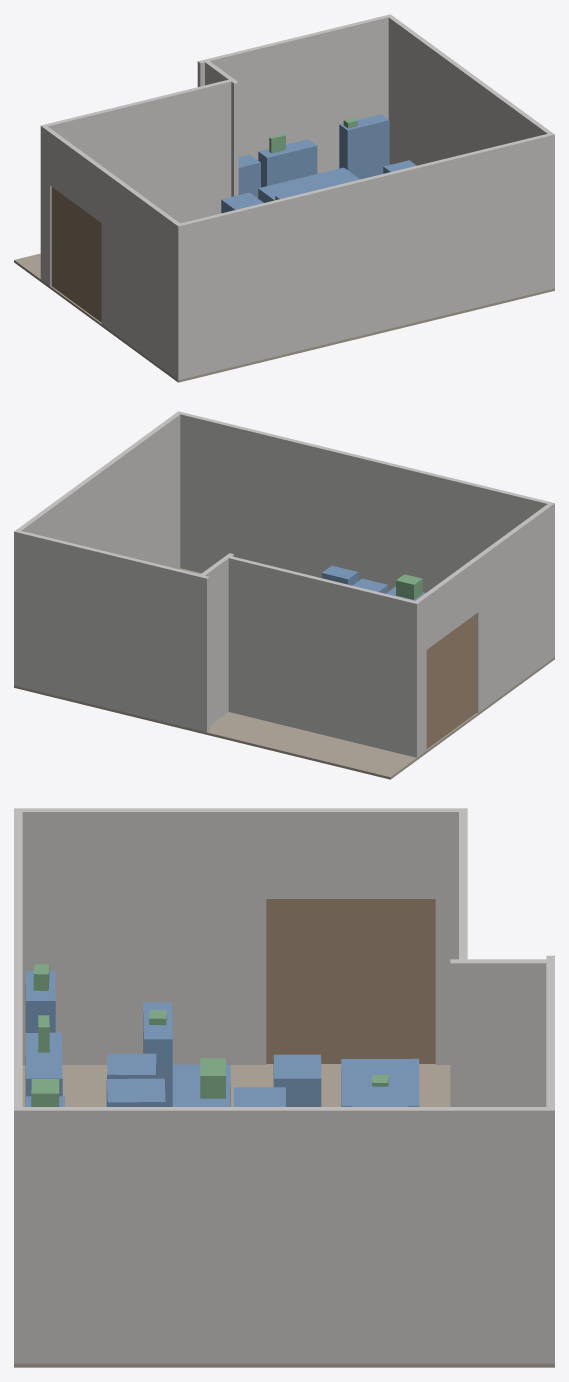
File: room_108.glb
3 renders of one model, top to bottom at view 1: azimuth 30°, elevation 25°; view 2: azimuth 150°, elevation 25°; view 3: azimuth 270°, elevation 25°, orthographic. The views are drawn at different scales.
Visible parts, largest first — view 1: shell_wall_0_s0, shell_wall_2_s0, shell_wall_4_s0, shell_wall_1_s0, shell_wall_5_s2, shell_wall_5_door, shell_wall_5_s1, obj_009, shell_floor, obj_029, shell_wall_5_s0, obj_011 (+3 smaller); view 2: shell_wall_0_s0, shell_wall_2_s0, shell_wall_4_s0, shell_wall_1_s0, shell_wall_5_s2, shell_floor, shell_wall_5_door, shell_wall_3_s0, shell_wall_5_s1, shell_wall_5_s0, obj_026, obj_016; view 3: shell_wall_1_s0, shell_wall_5_s2, shell_wall_5_door, shell_wall_5_s1, shell_wall_3_s0, shell_floor, shell_wall_5_s0, shell_wall_0_s0, obj_042, shell_wall_2_s0, obj_034, shell_wall_4_s0 (+9 smaller).
Boxes of the visible parts, x1,y1,x2,y2 form: shell_wall_0_s0: (175,134,554,380); shell_wall_2_s0: (197,14,392,173); shell_wall_4_s0: (40,78,235,280); shell_wall_1_s0: (386,14,554,289); shell_wall_5_s2: (101,169,182,379); shell_wall_5_door: (51,187,101,322); shell_wall_5_s1: (50,131,105,222); obj_009: (339,114,389,179); shell_floor: (14,253,554,382); obj_029: (258,139,317,187); shell_wall_5_s0: (40,125,54,286); obj_011: (258,167,359,202); shell_wall_0_s0: (176,411,554,656); shell_wall_2_s0: (14,531,209,732); shell_wall_4_s0: (225,555,419,757); shell_wall_1_s0: (14,411,180,686); shell_wall_5_s2: (474,502,554,712); shell_floor: (14,568,554,779); shell_wall_5_door: (426,613,476,748); shell_wall_3_s0: (199,553,233,730); shell_wall_5_s1: (422,558,478,649); shell_wall_5_s0: (412,596,426,757); obj_026: (396,574,422,599); obj_016: (322,565,358,585); shell_wall_1_s0: (14,1107,554,1363); shell_wall_5_s2: (14,808,266,1064); shell_wall_5_door: (266,899,435,1063); shell_wall_5_s1: (266,808,435,898); shell_wall_3_s0: (450,959,546,1106); shell_floor: (14,1064,554,1367); shell_wall_5_s0: (435,808,466,1064); shell_wall_0_s0: (14,808,22,1363); obj_042: (341,1058,419,1106); shell_wall_2_s0: (546,955,554,1363); obj_034: (273,1054,321,1106); shell_wall_4_s0: (459,808,467,1106).
Bounding box in the file's own units: 8.2 × 3.25 × 6.2.
